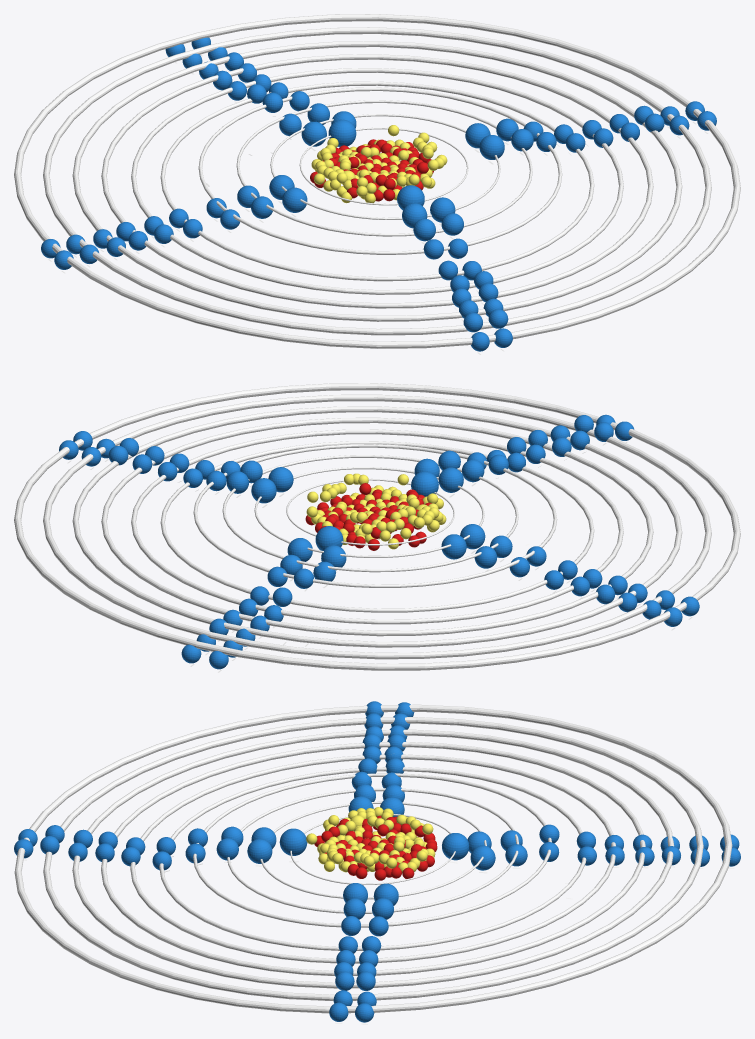
3 renders of one model, top to bottom at view 1: azimuth 30°, elevation 25°; view 2: azimuth 150°, elevation 25°; view 3: azimuth 270°, elevation 25°, orthographic.
Visible parts, largest first — view 1: Torus.010, Torus.009, Torus.008, Torus.007, Torus.006, Torus.005, Torus.004, Torus.003, Torus.002, Torus.001, g; view 2: Torus.010, Torus.009, Torus.008, Torus.007, Torus.006, Torus.005, Torus.004, Torus.003, Torus.002, Torus.001, g.001, g (+3 smaller); view 3: Torus.010, Torus.009, Torus.008, Torus.007, Torus.006, Torus.005, Torus.004, Torus.003, Torus.002, g.001, g, Torus.001.
Part boxes in pixels (bbox=[...]): Torus.010: bbox=[14, 14, 740, 348]; Torus.009: bbox=[43, 27, 711, 335]; Torus.008: bbox=[72, 41, 682, 321]; Torus.007: bbox=[101, 54, 653, 308]; Torus.006: bbox=[131, 68, 623, 294]; Torus.005: bbox=[160, 81, 594, 281]; Torus.004: bbox=[198, 87, 562, 254]; Torus.003: bbox=[236, 100, 532, 236]; Torus.002: bbox=[270, 114, 500, 219]; Torus.001: bbox=[299, 127, 468, 205]; g: bbox=[328, 119, 356, 147]; Torus.010: bbox=[14, 383, 740, 670]; Torus.009: bbox=[43, 394, 711, 659]; Torus.008: bbox=[72, 406, 682, 647]; Torus.007: bbox=[101, 417, 653, 636]; Torus.006: bbox=[131, 429, 623, 624]; Torus.005: bbox=[160, 441, 594, 612]; Torus.004: bbox=[193, 444, 557, 587]; Torus.003: bbox=[222, 455, 518, 572]; Torus.002: bbox=[254, 467, 484, 557]; Torus.001: bbox=[286, 478, 454, 545]; g.001: bbox=[411, 471, 438, 496]; g: bbox=[315, 526, 343, 550]; Torus.010: bbox=[14, 704, 732, 1013]; Torus.009: bbox=[43, 717, 703, 1000]; Torus.008: bbox=[72, 729, 674, 988]; Torus.007: bbox=[101, 742, 645, 975]; Torus.006: bbox=[130, 754, 615, 963]; Torus.005: bbox=[159, 767, 586, 950]; Torus.004: bbox=[193, 773, 551, 927]; Torus.003: bbox=[227, 788, 518, 913]; Torus.002: bbox=[260, 801, 486, 899]; g.001: bbox=[279, 828, 307, 855]; g: bbox=[442, 833, 469, 860]; Torus.001: bbox=[290, 814, 455, 885].
Size of the model in its own units: 26.4 by 2.85 by 26.16.
